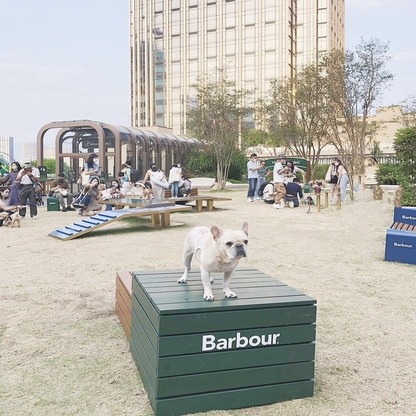bulldog: (174, 221, 253, 302)
